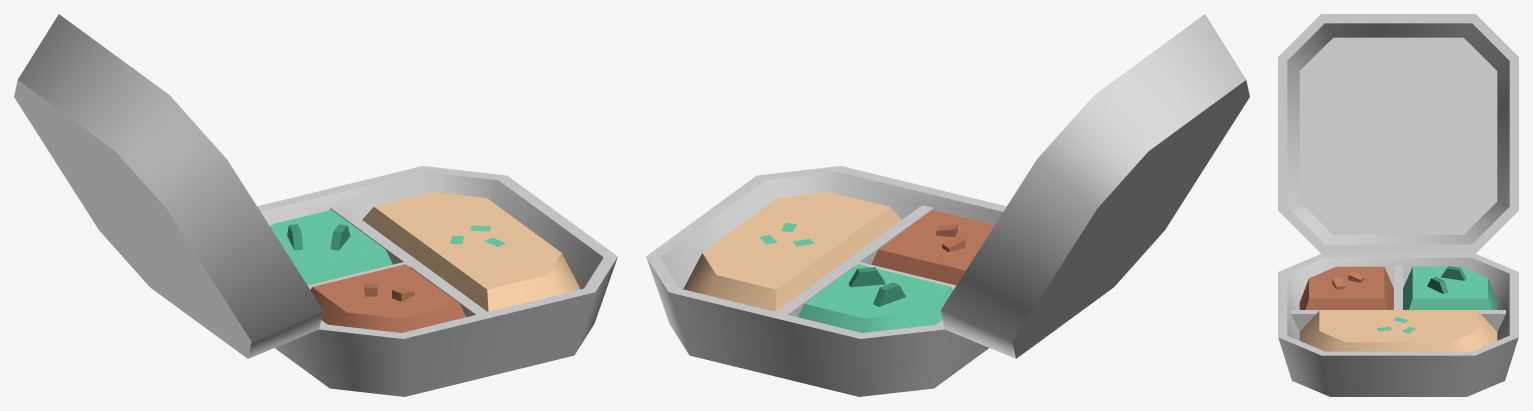
File: styrofoamDinner.fbx
3 views of the same model, side by side, from view 1: azimuth 30°, elevation 25°; view 2: azimuth 150°, elevation 25°; view 3: azimuth 270°, elevation 25° (orthographic). The views are drawn at different scales.
Parts seen in each view (by area): view 1: styrofoamDinner, lid; view 2: styrofoamDinner, lid; view 3: lid, styrofoamDinner.
Boxes of the visible parts, x1=… form: styrofoamDinner: x1=257, y1=166, x2=617, y2=396; lid: x1=14, y1=14, x2=322, y2=358; styrofoamDinner: x1=646, y1=166, x2=1006, y2=396; lid: x1=941, y1=14, x2=1249, y2=358; lid: x1=1278, y1=14, x2=1518, y2=253; styrofoamDinner: x1=1278, y1=253, x2=1518, y2=396.
Bounding box in the file's own units: 12.59 × 8.22 × 7.59.
